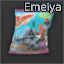Emelya rye croutons: (0, 0, 64, 64)
